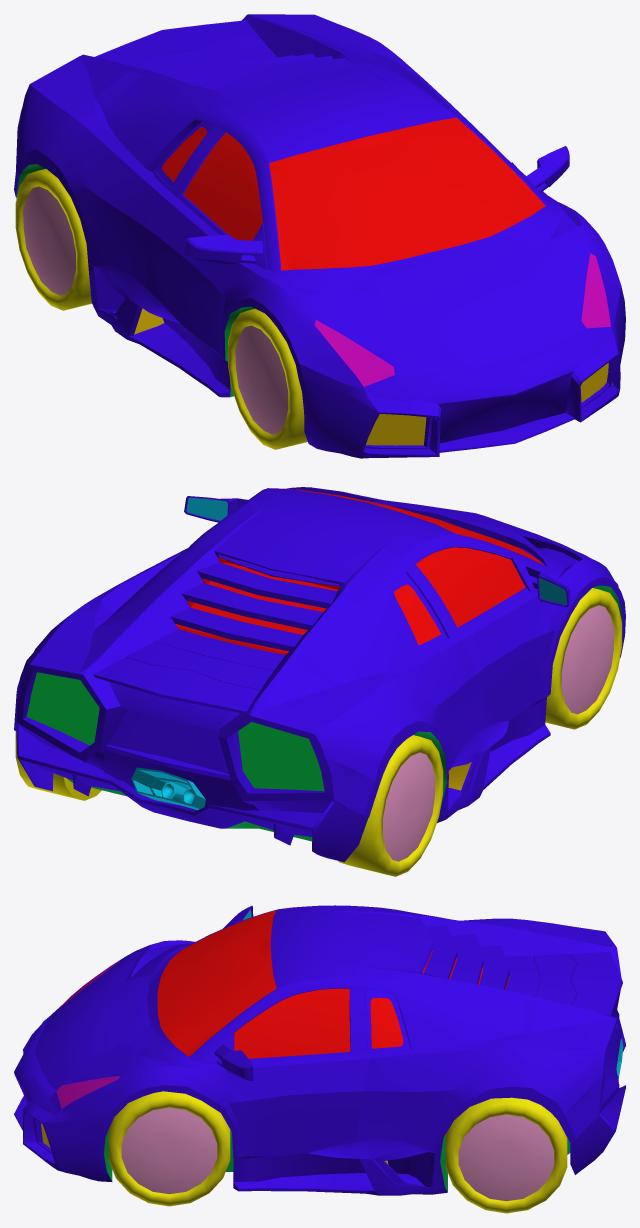
Rendered from Car09_ColorCoded.fbx.
The picture shows the model from 3 angles, top to bottom: view 1: azimuth 30°, elevation 25°; view 2: azimuth 150°, elevation 25°; view 3: azimuth 270°, elevation 25°; orthographic projection. The views are drawn at different scales.
Visible parts, largest first — view 1: carBody, tireFrontR, tireBackR; view 2: carBody, tireBackR, tireFrontR, tireBackL; view 3: carBody, tireBackL, tireFrontL.
Part boxes in pixels (left/top/right/bottom): carBody: left=14, top=14, right=625, bottom=458; tireFrontR: left=228, top=308, right=307, bottom=449; tireBackR: left=15, top=169, right=91, bottom=310; carBody: left=14, top=487, right=625, bottom=862; tireBackR: left=338, top=735, right=443, bottom=876; tireFrontR: left=545, top=588, right=622, bottom=729; tireBackL: left=15, top=732, right=101, bottom=800; carBody: left=14, top=905, right=625, bottom=1195; tireBackL: left=445, top=1097, right=567, bottom=1213; tireFrontL: left=108, top=1091, right=230, bottom=1206.
Bounding box in the file's own units: 70.43 × 113 × 41.34.
